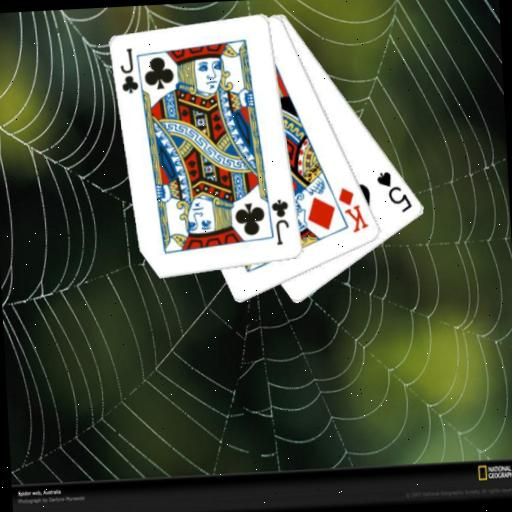5S: (374, 167, 415, 216)
JC: (116, 45, 141, 96), (269, 196, 293, 248)
KD: (335, 183, 371, 236)
